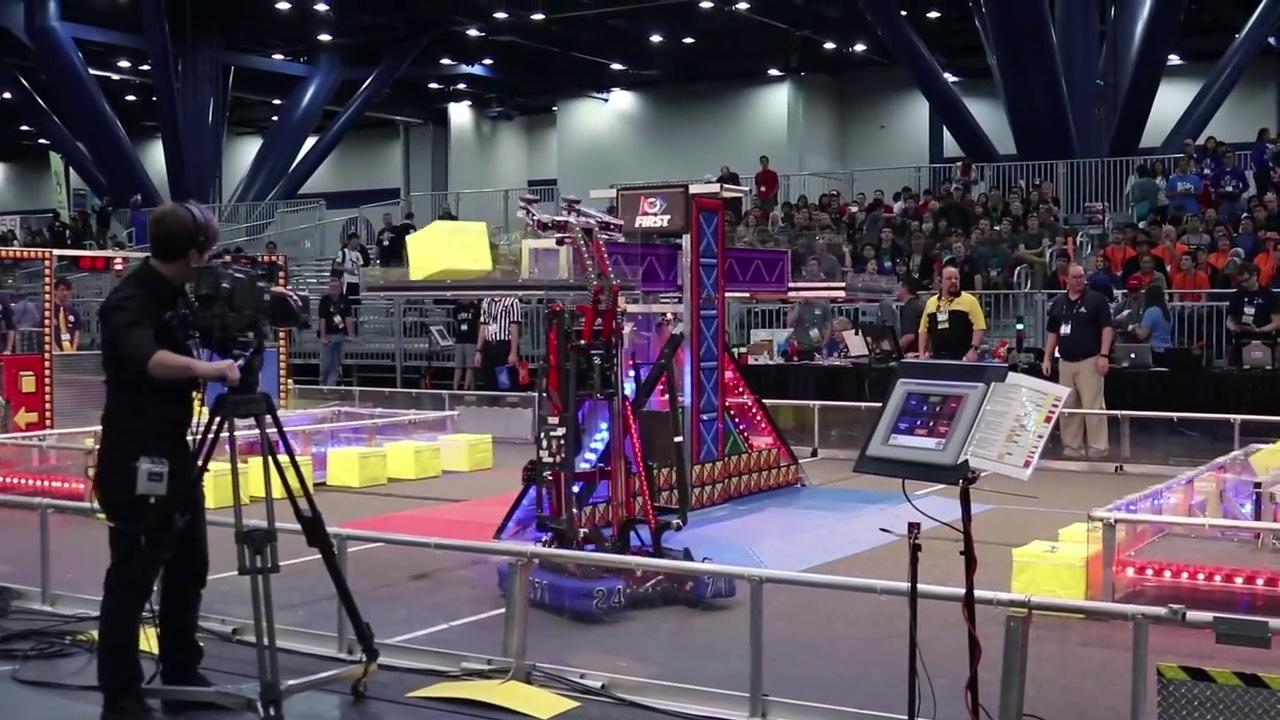robot: (487, 306, 739, 627)
